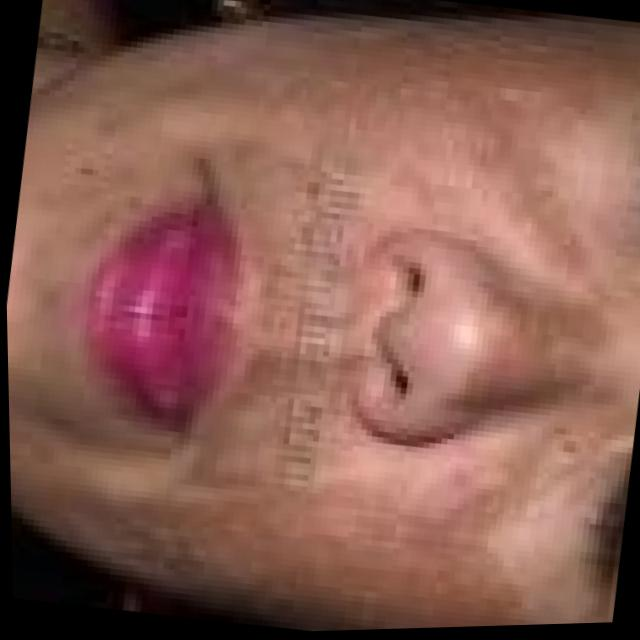Melasma: (95, 0, 640, 305), (44, 354, 607, 639)
